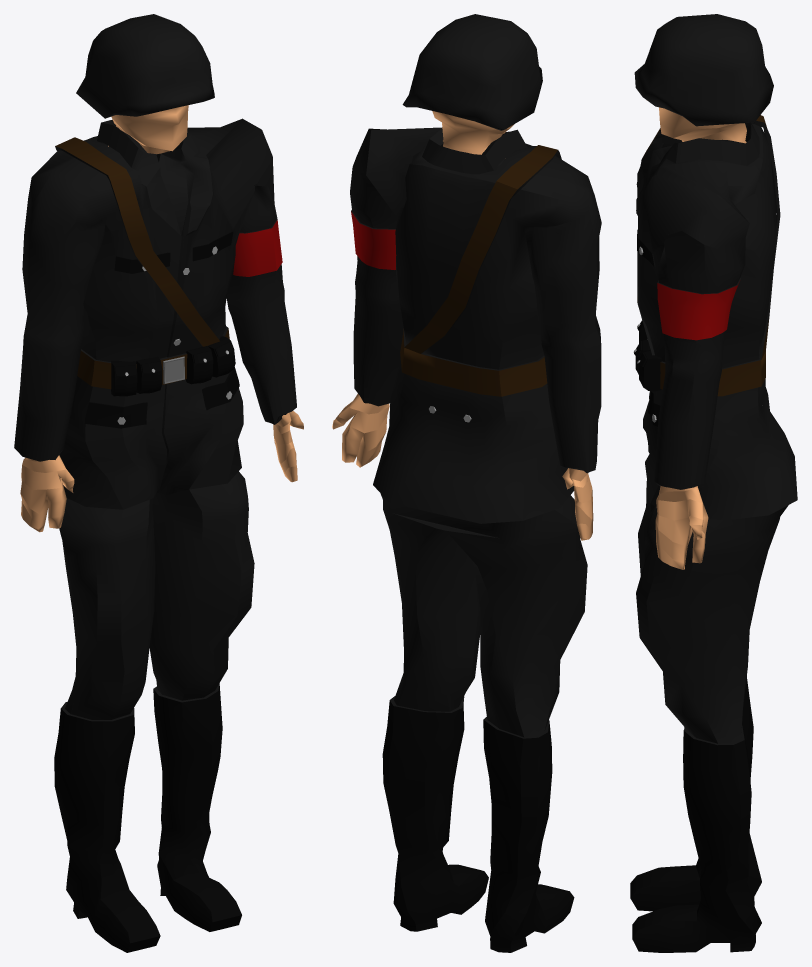
File: german_infantry_relaxed_crouch_00.glb
3 renders of one model, left to right at view 1: azimuth 30°, elevation 25°; view 2: azimuth 150°, elevation 25°; view 3: azimuth 270°, elevation 25°, orthographic.
Parts seen in each view (by area): view 1: Soldier_1_Static, Helmet_Static; view 2: Soldier_1_Static, Helmet_Static; view 3: Soldier_1_Static, Helmet_Static.
Boxes of the visible parts, left/top/right/bottom form: Soldier_1_Static: left=14, top=105, right=303, bottom=952; Helmet_Static: left=76, top=14, right=214, bottom=118; Soldier_1_Static: left=332, top=111, right=601, bottom=952; Helmet_Static: left=402, top=14, right=542, bottom=130; Soldier_1_Static: left=630, top=107, right=797, bottom=952; Helmet_Static: left=634, top=14, right=773, bottom=126.
Size of the model in its own units: 0.5644 by 1.75 by 0.2942.
1 material, 1 textured.
